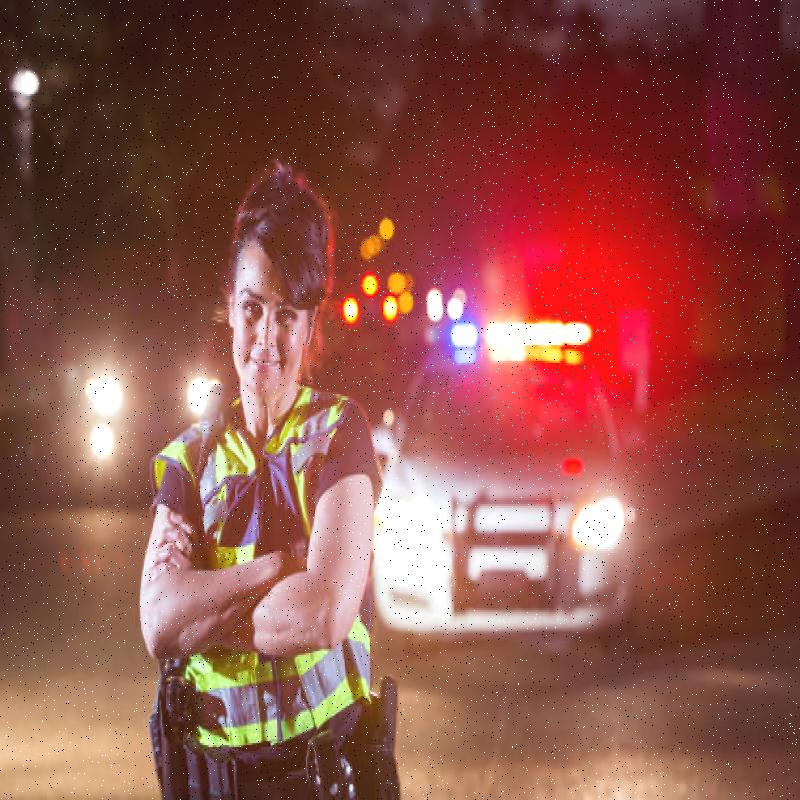AmbulanceSiren: (436, 283, 605, 365)
